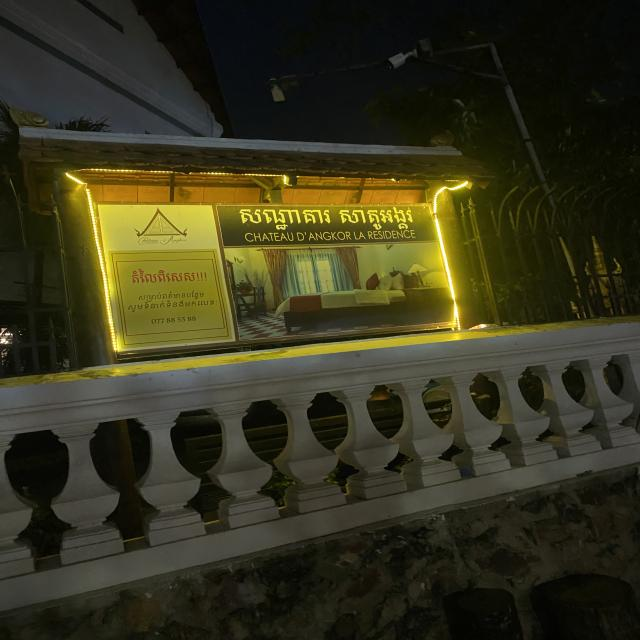1: (235, 204, 420, 234)
386: (151, 315, 197, 326)
Yolov11kh: (129, 267, 212, 287), (122, 297, 215, 313), (136, 289, 205, 304)
